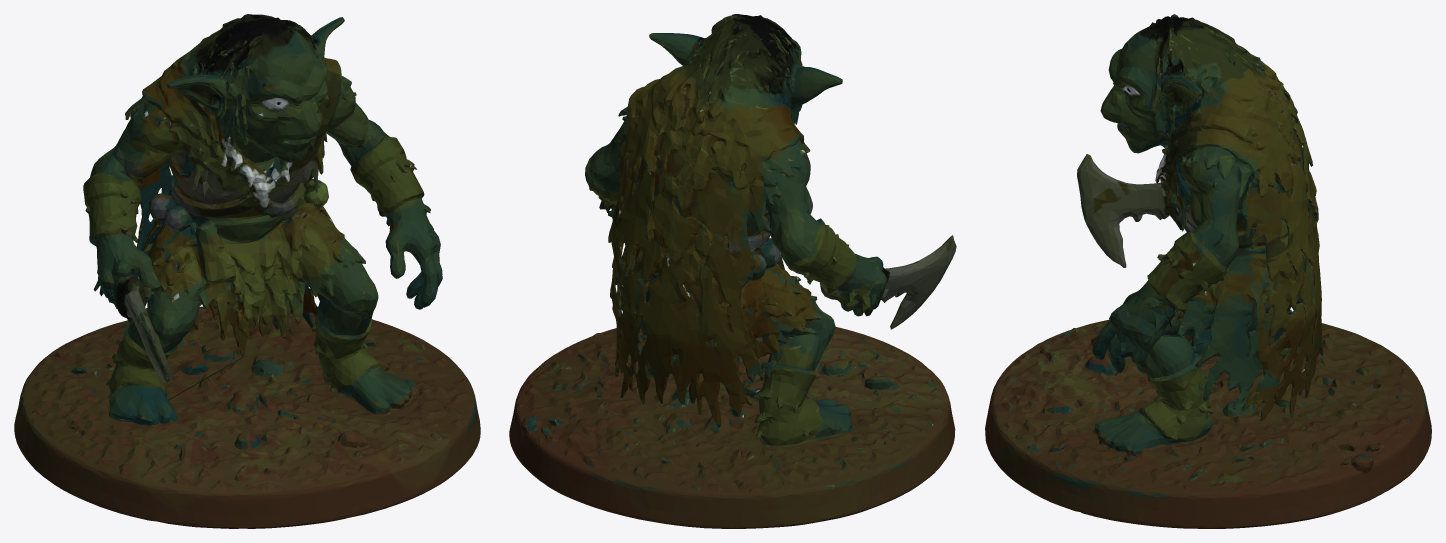
File: goblin_combatente.glb
3 views of the same model, side by side, from view 1: azimuth 30°, elevation 25°; view 2: azimuth 150°, elevation 25°; view 3: azimuth 270°, elevation 25° (orthographic). The views are drawn at different scales.
Parts seen in each view (by area): view 1: tmpzil0guyd.ply; view 2: tmpzil0guyd.ply; view 3: tmpzil0guyd.ply.
Boxes of the visible parts, <box> form: tmpzil0guyd.ply: <box>14,14,480,528</box>; tmpzil0guyd.ply: <box>509,14,956,528</box>; tmpzil0guyd.ply: <box>985,14,1431,528</box>.
Size of the model in its own units: 1.94 by 1.96 by 1.91.
1 material, 1 textured.
